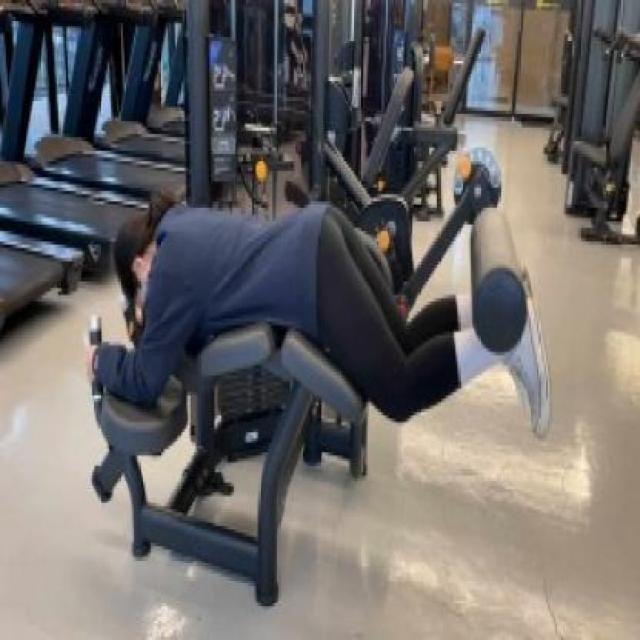reg curl machine: (81, 11, 557, 609)
